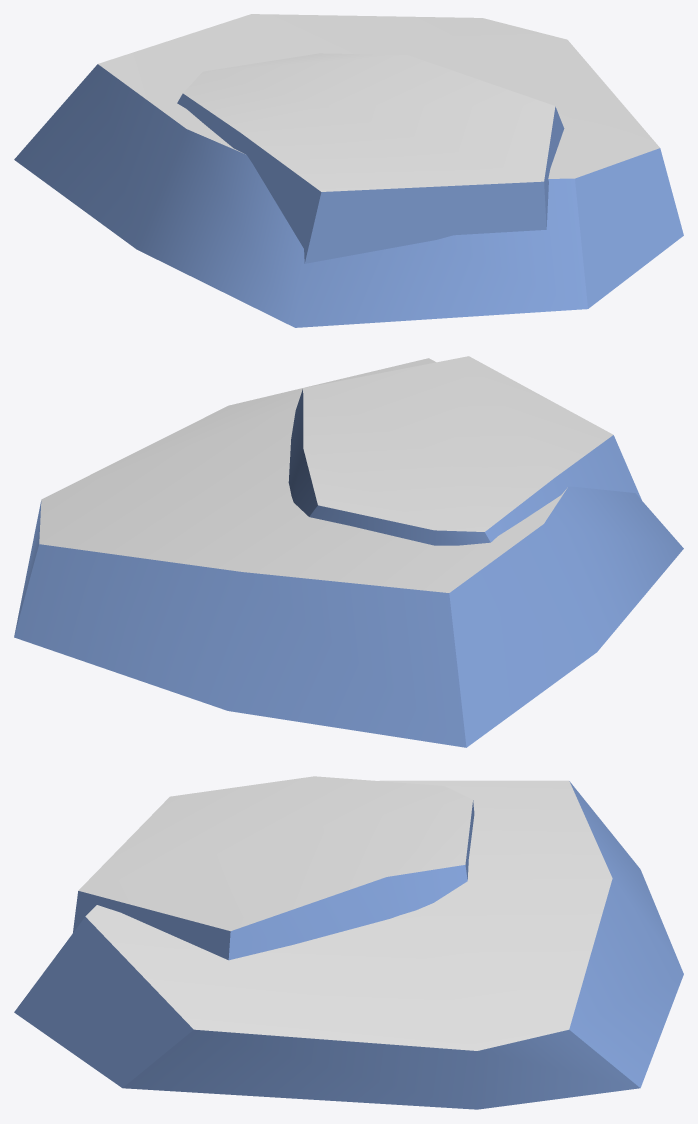
The model's file is SM_Obstacle_01.fbx.
The picture shows the model from 3 angles, top to bottom: view 1: azimuth 30°, elevation 25°; view 2: azimuth 150°, elevation 25°; view 3: azimuth 270°, elevation 25°; orthographic projection. The views are drawn at different scales.
Visible parts, largest first — view 1: Cube.082; view 2: Cube.082; view 3: Cube.082.
Part boxes in pixels (x1,y1,x2,y2): Cube.082: (14,14,683,327); Cube.082: (14,356,683,747); Cube.082: (14,776,683,1109).
Size of the model in its own units: 11.07 by 2.8 by 12.76.
